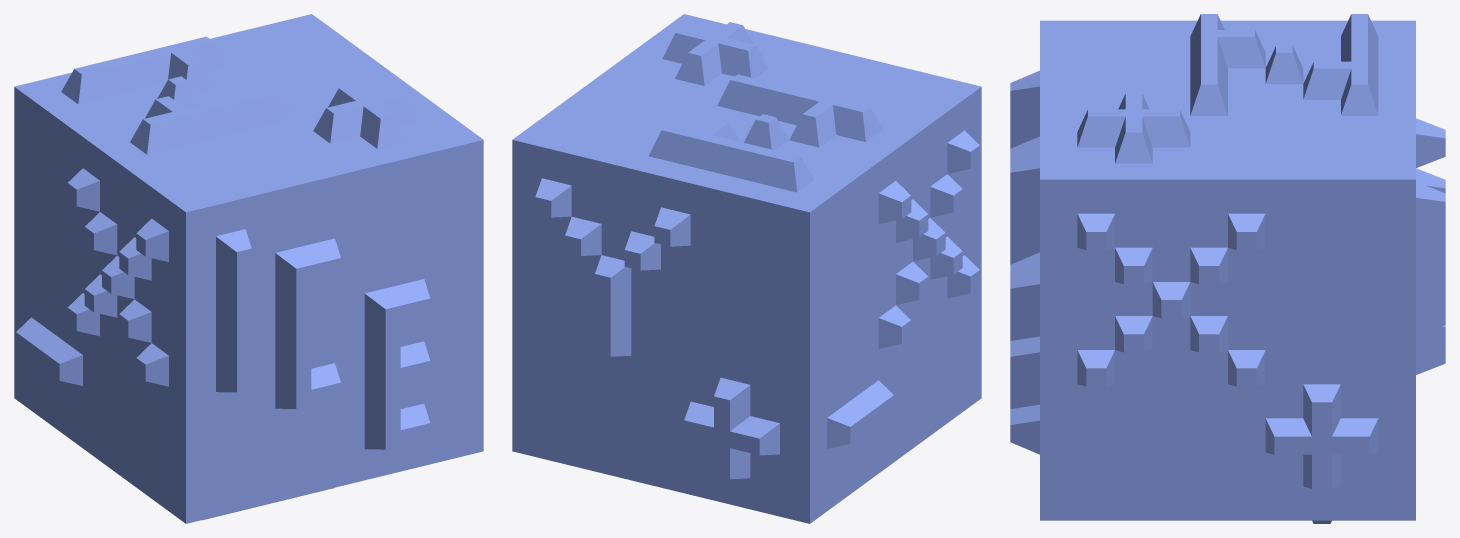
Rendered from iceCube.FBX.
3 renders of one model, left to right at view 1: azimuth 30°, elevation 25°; view 2: azimuth 150°, elevation 25°; view 3: azimuth 270°, elevation 25°, orthographic. The views are drawn at different scales.
Visible parts, largest first — view 1: Box01; view 2: Box01; view 3: Box01.
Part boxes in pixels (<box>): Box01: <box>14,14,483,523</box>; Box01: <box>512,14,981,523</box>; Box01: <box>1010,14,1445,523</box>.
Bounding box in the file's own units: 113 × 115 × 116.
